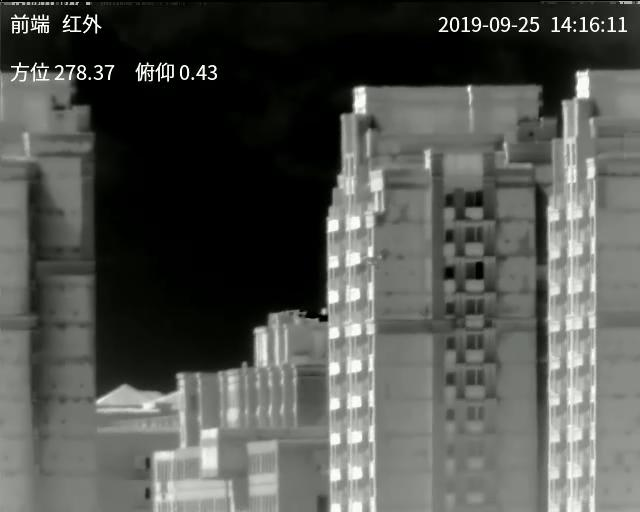uav: (358, 248, 383, 274)
